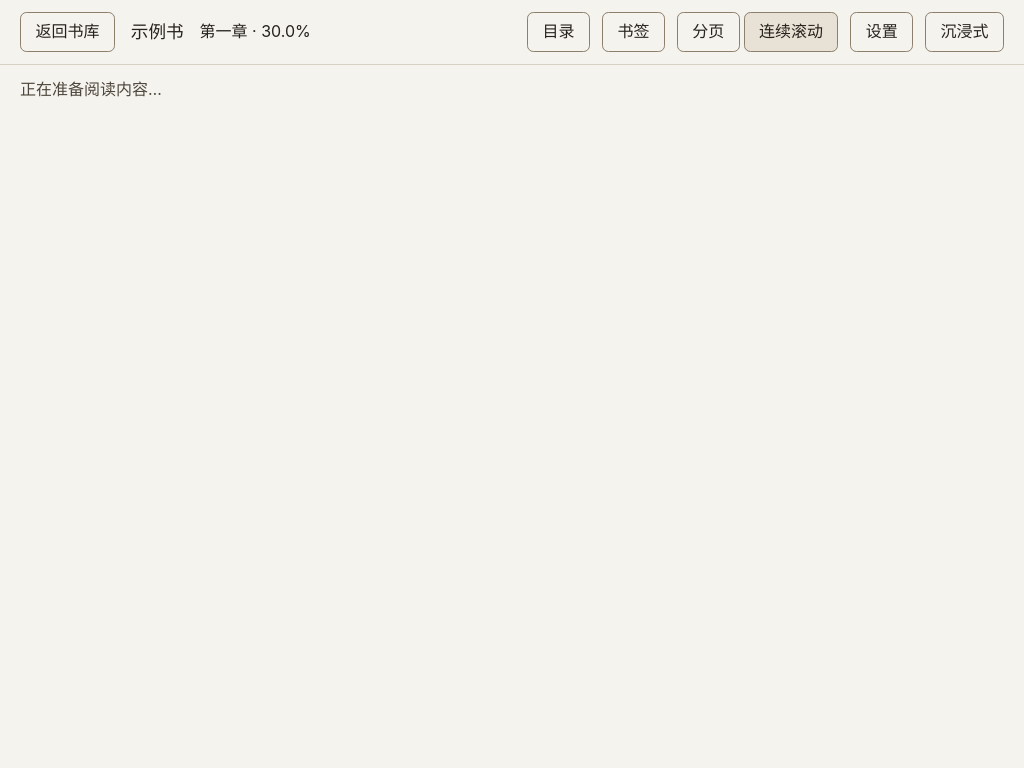
Test case: ReaderShell › opens settings and changes font scale in 0.1 steps
This screenshot has width=1024, height=768.
Click the button with aria-label "阅读设置".
click(882, 32)  # box [850,12,913,52]
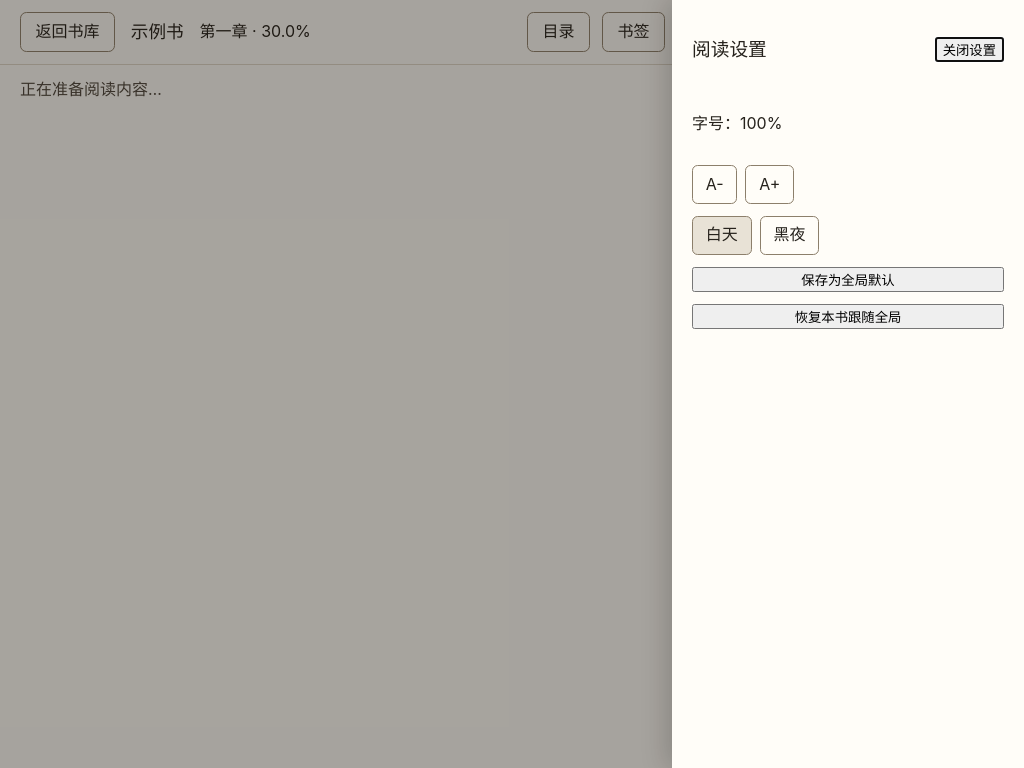
Expected: the text "字号：100%" is shown, [692,113,782,133]
Click the button named "增大字号".
click(770, 184)  # box [746,165,794,204]
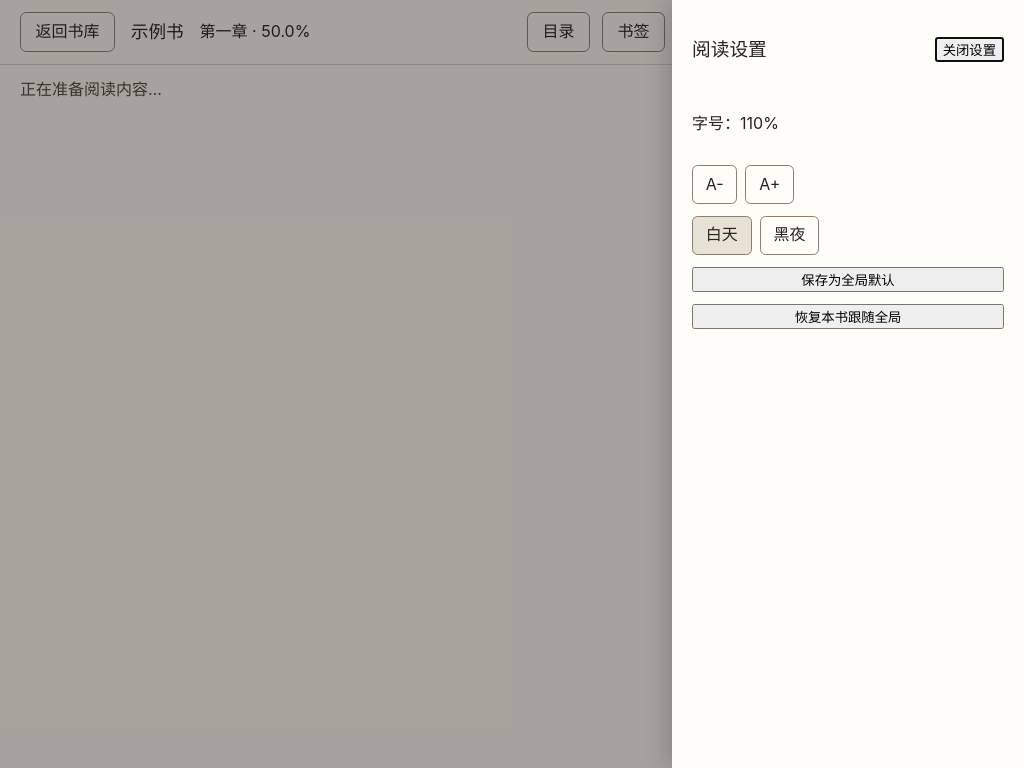
Expected: the text "字号：110%" is shown, [692,113,779,133]
Click the button named "减小字号".
click(715, 184)  # box [692,165,738,204]
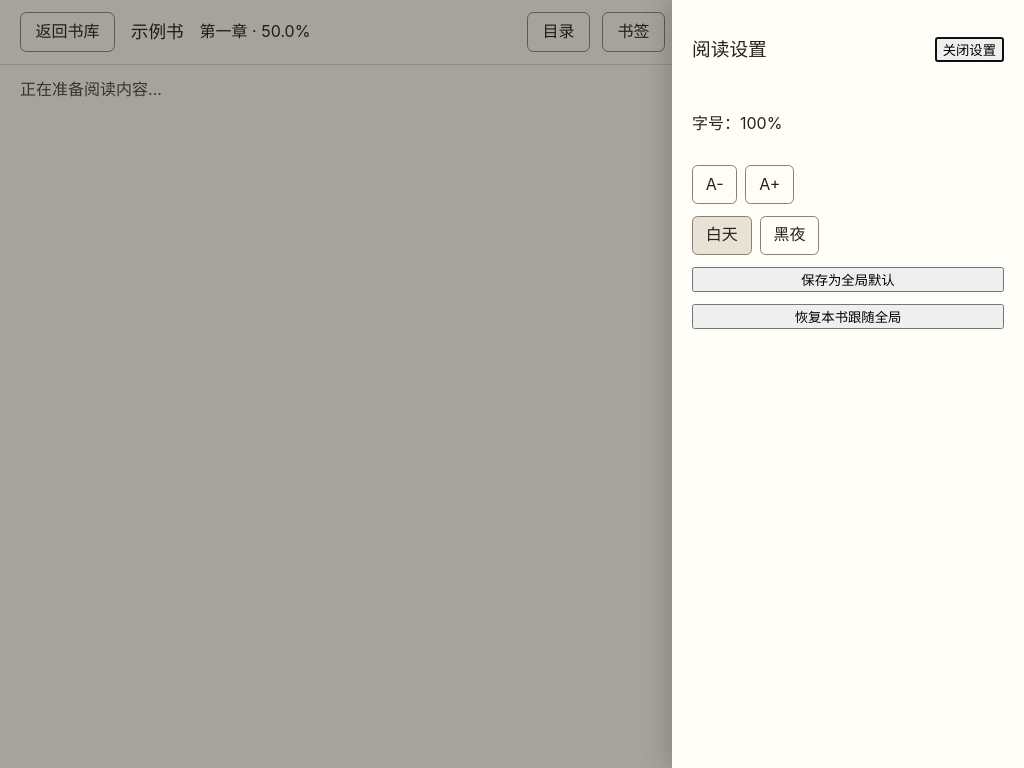
Expected: the text "字号：100%" is shown, [692,113,782,133]
Click the button "关闭设置".
click(969, 50)  # box [935,37,1004,62]
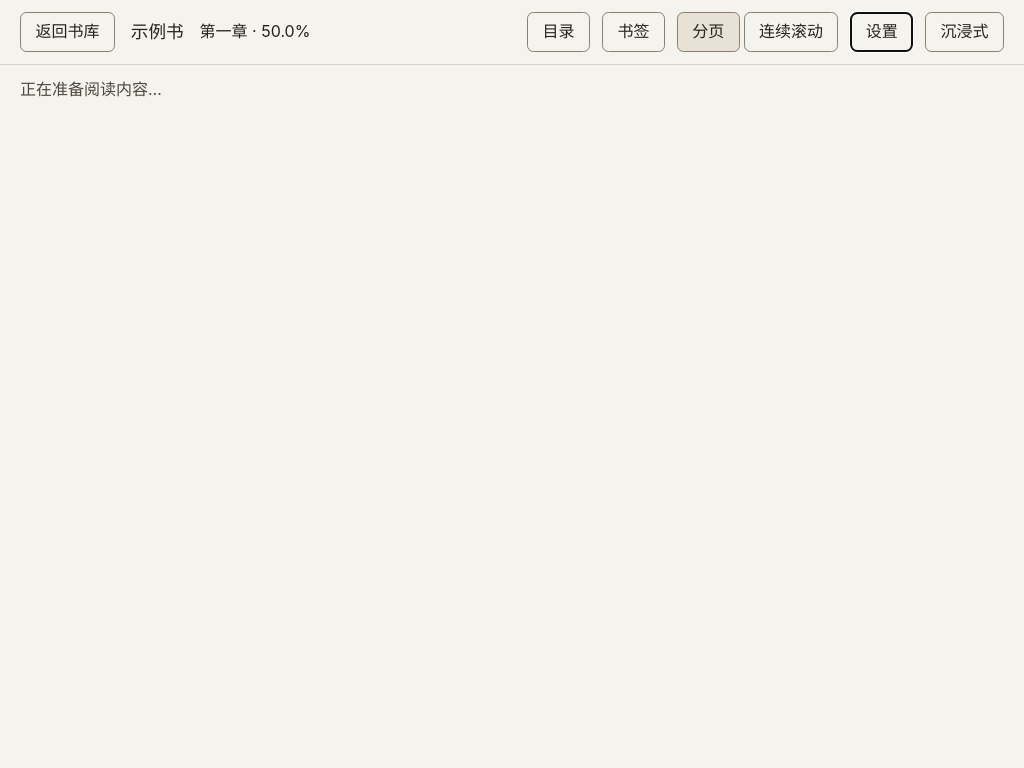
Click the button with aria-label "阅读设置".
click(882, 32)  # box [850,12,913,52]
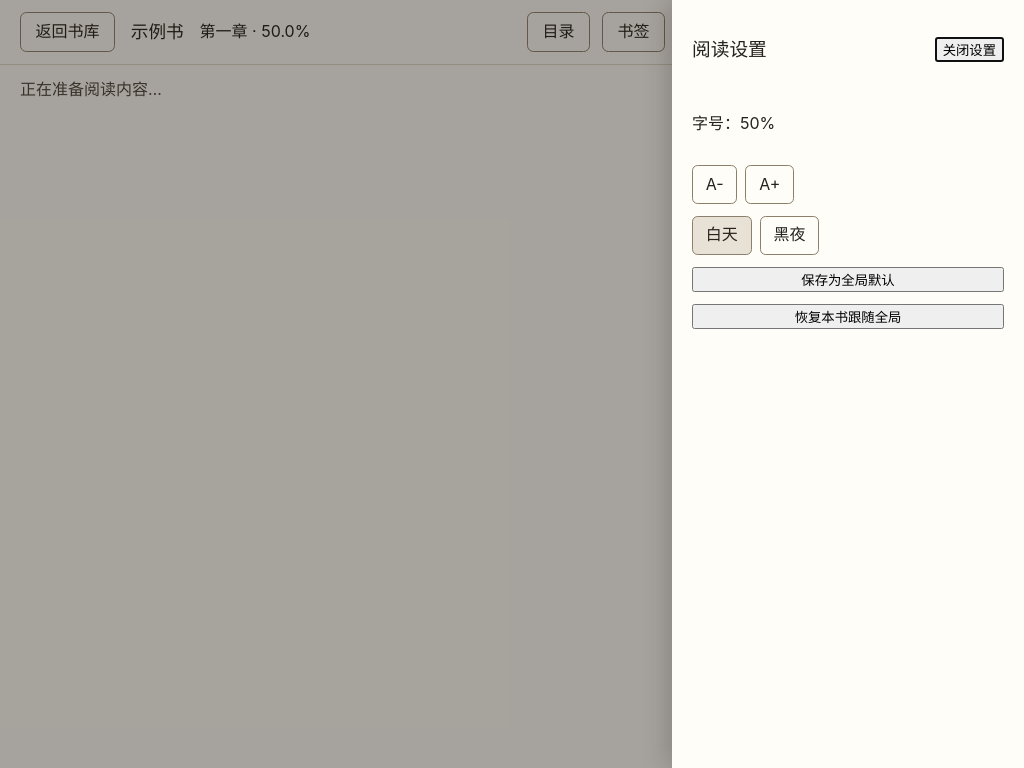
Expected: the button named "减小字号" is disabled, [692,165,738,204]
